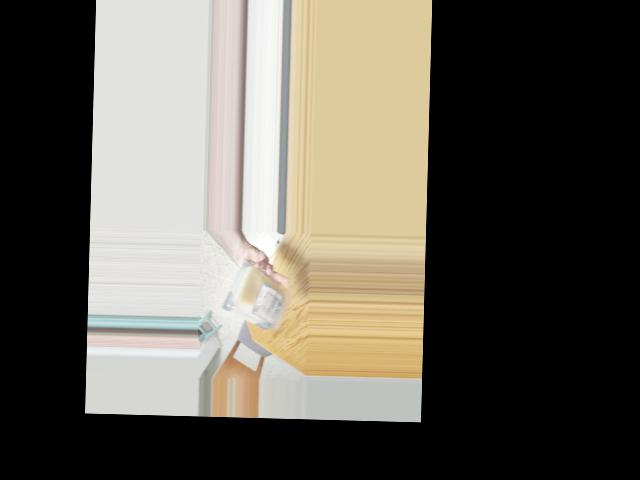cheese: (222, 277, 286, 330)
